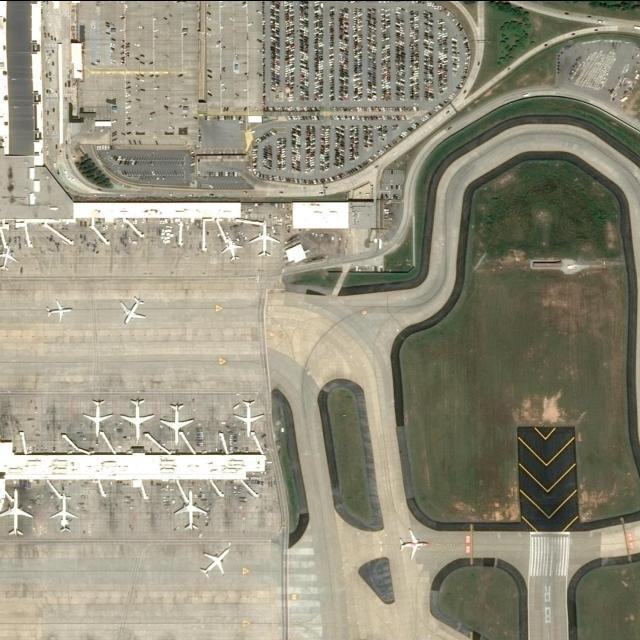Aircraft: (1, 488, 37, 536), (83, 393, 122, 436), (122, 397, 160, 439), (174, 488, 212, 530), (162, 402, 196, 442), (236, 398, 268, 438), (250, 219, 282, 257), (51, 493, 81, 532), (200, 545, 234, 579), (401, 528, 429, 559), (121, 295, 149, 324), (47, 298, 75, 322), (223, 234, 245, 260), (0, 244, 19, 272)
